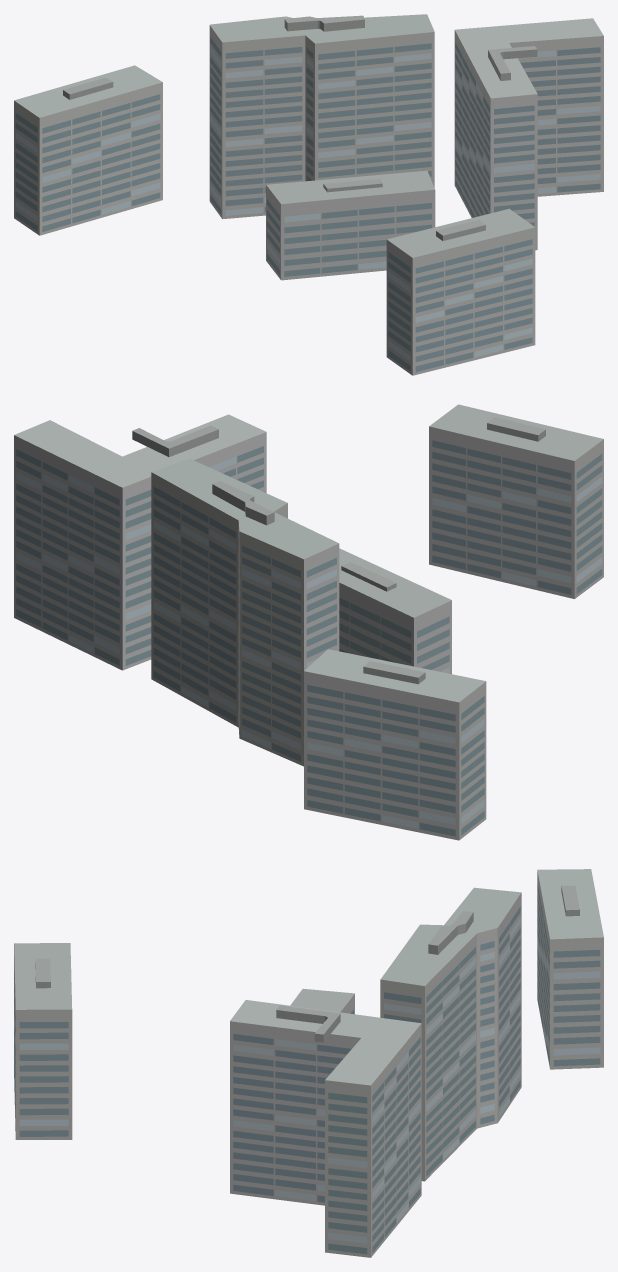
File: apt-a13920106.glb
The picture shows the model from 3 angles, top to bottom: view 1: azimuth 30°, elevation 25°; view 2: azimuth 150°, elevation 25°; view 3: azimuth 270°, elevation 25°; orthographic projection. The views are drawn at different scales.
Visible parts, largest first — view 1: apt-a13920106; view 2: apt-a13920106; view 3: apt-a13920106.
Part boxes in pixels (left/top/right/bottom): apt-a13920106: left=14, top=14, right=603, bottom=375; apt-a13920106: left=14, top=404, right=603, bottom=840; apt-a13920106: left=14, top=869, right=603, bottom=1257.
Bounding box in the file's own units: 138 × 51 × 133.
